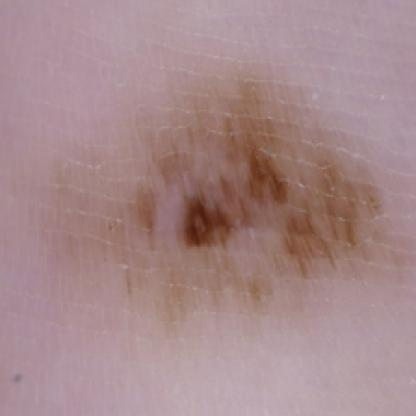benign: (141, 86, 349, 280)
